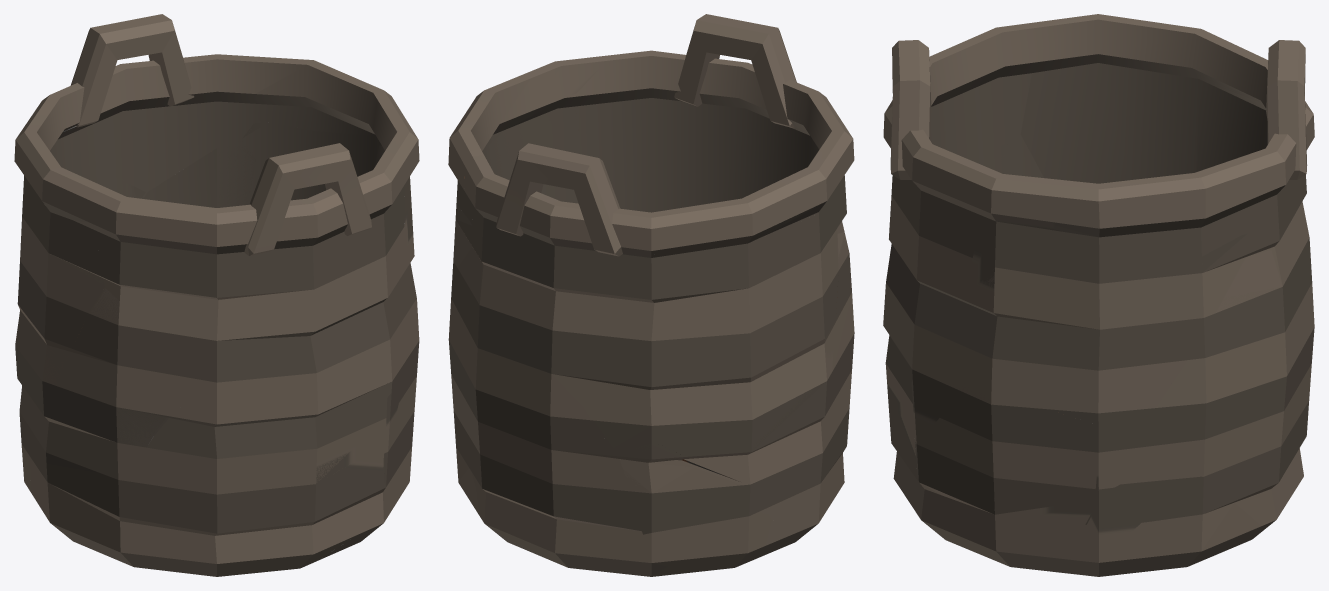
Rendered from DES_SM_Prop_Basket_01.fbx.
3 renders of one model, left to right at view 1: azimuth 30°, elevation 25°; view 2: azimuth 150°, elevation 25°; view 3: azimuth 270°, elevation 25°, orthographic. The views are drawn at different scales.
Parts seen in each view (by area): view 1: SM_Prop_Basket_01, SM_Prop_Basket_01_cell.010, SM_Prop_Basket_01_cell.001, SM_Prop_Basket_01_cell.017, SM_Prop_Basket_01_cell.009, SM_Prop_Basket_01_cell.012, SM_Prop_Basket_01_cell.018, SM_Prop_Basket_01_cell.013, SM_Prop_Basket_01_cell.011, SM_Prop_Basket_01_cell.004, SM_Prop_Basket_01_cell.007; view 2: SM_Prop_Basket_01, SM_Prop_Basket_01_cell.012, SM_Prop_Basket_01_cell.008, SM_Prop_Basket_01_cell.017, SM_Prop_Basket_01_cell.009, SM_Prop_Basket_01_cell.011, SM_Prop_Basket_01_cell.001, SM_Prop_Basket_01_cell.010, SM_Prop_Basket_01_cell.018, SM_Prop_Basket_01_cell.004, SM_Prop_Basket_01_cell; view 3: SM_Prop_Basket_01, SM_Prop_Basket_01_cell.011, SM_Prop_Basket_01_cell.017, SM_Prop_Basket_01_cell.013, SM_Prop_Basket_01_cell.018, SM_Prop_Basket_01_cell, SM_Prop_Basket_01_cell.012, SM_Prop_Basket_01_cell.009, SM_Prop_Basket_01_cell.004, SM_Prop_Basket_01_cell.010, SM_Prop_Basket_01_cell.007.
Part boxes in pixels (bbox=[...]): SM_Prop_Basket_01: bbox=[14, 14, 419, 562]; SM_Prop_Basket_01_cell.010: bbox=[31, 357, 385, 576]; SM_Prop_Basket_01_cell.001: bbox=[46, 288, 196, 476]; SM_Prop_Basket_01_cell.017: bbox=[18, 125, 145, 385]; SM_Prop_Basket_01_cell.009: bbox=[255, 56, 402, 143]; SM_Prop_Basket_01_cell.012: bbox=[143, 141, 255, 207]; SM_Prop_Basket_01_cell.018: bbox=[37, 98, 106, 222]; SM_Prop_Basket_01_cell.013: bbox=[384, 329, 419, 486]; SM_Prop_Basket_01_cell.011: bbox=[242, 123, 416, 318]; SM_Prop_Basket_01_cell.004: bbox=[381, 121, 419, 173]; SM_Prop_Basket_01_cell.007: bbox=[318, 502, 383, 560]; SM_Prop_Basket_01: bbox=[448, 14, 854, 576]; SM_Prop_Basket_01_cell.012: bbox=[449, 247, 667, 575]; SM_Prop_Basket_01_cell.008: bbox=[619, 444, 771, 566]; SM_Prop_Basket_01_cell.017: bbox=[591, 188, 839, 483]; SM_Prop_Basket_01_cell.009: bbox=[448, 76, 530, 221]; SM_Prop_Basket_01_cell.011: bbox=[455, 97, 575, 225]; SM_Prop_Basket_01_cell.001: bbox=[817, 232, 852, 463]; SM_Prop_Basket_01_cell.010: bbox=[732, 448, 845, 566]; SM_Prop_Basket_01_cell.018: bbox=[654, 142, 844, 253]; SM_Prop_Basket_01_cell.004: bbox=[534, 55, 608, 109]; SM_Prop_Basket_01_cell: bbox=[458, 468, 684, 574]; SM_Prop_Basket_01: bbox=[883, 14, 1314, 576]; SM_Prop_Basket_01_cell.011: bbox=[953, 214, 1247, 423]; SM_Prop_Basket_01_cell.017: bbox=[1020, 63, 1267, 183]; SM_Prop_Basket_01_cell.013: bbox=[911, 367, 1119, 530]; SM_Prop_Basket_01_cell.018: bbox=[1029, 14, 1265, 100]; SM_Prop_Basket_01_cell: bbox=[1083, 476, 1261, 568]; SM_Prop_Basket_01_cell.012: bbox=[1155, 250, 1303, 478]; SM_Prop_Basket_01_cell.009: bbox=[1046, 159, 1252, 254]; SM_Prop_Basket_01_cell.004: bbox=[951, 159, 1053, 227]; SM_Prop_Basket_01_cell.010: bbox=[886, 372, 919, 484]; SM_Prop_Basket_01_cell.007: bbox=[911, 502, 1098, 576].
Size of the model in its own units: 50.03 by 57.21 by 50.07.
